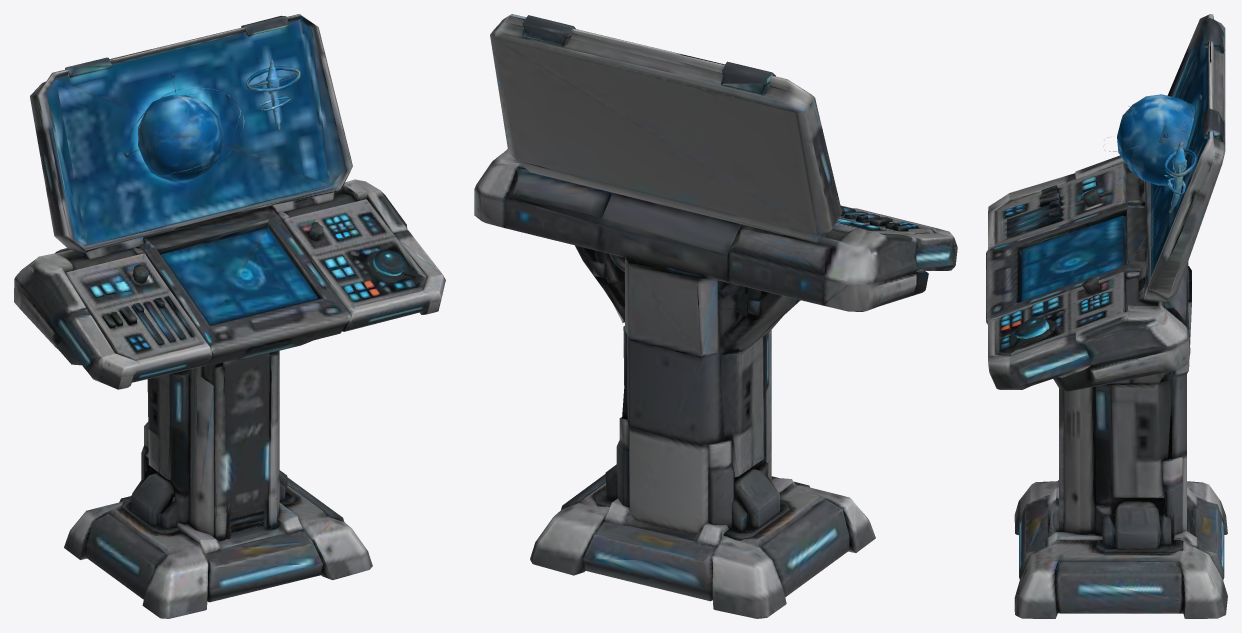
Rendered from console.glb.
The picture shows the model from 3 angles, left to right: view 1: azimuth 30°, elevation 25°; view 2: azimuth 150°, elevation 25°; view 3: azimuth 270°, elevation 25°; orthographic projection. The views are drawn at different scales.
Parts seen in each view (by area): view 1: geometry_0; view 2: geometry_0; view 3: geometry_0.
Boxes of the visible parts, x1,y1,x2,y2 form: geometry_0: (14,14,445,618); geometry_0: (474,14,957,618); geometry_0: (986,14,1227,618).
Bounding box in the file's own units: 0.7374 × 0.9521 × 0.4214.
1 material, 1 textured.
